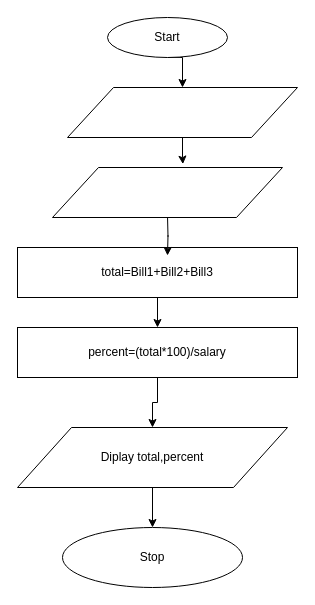
This 315x605 diagram has some shape labels left out. Here are the shapes that lost their labels. From the top down, the centre of each, then its label:
At [182,112]: "Accept Salary".
At [167,192]: "Accept Bill1,Bill2,Bill3".
